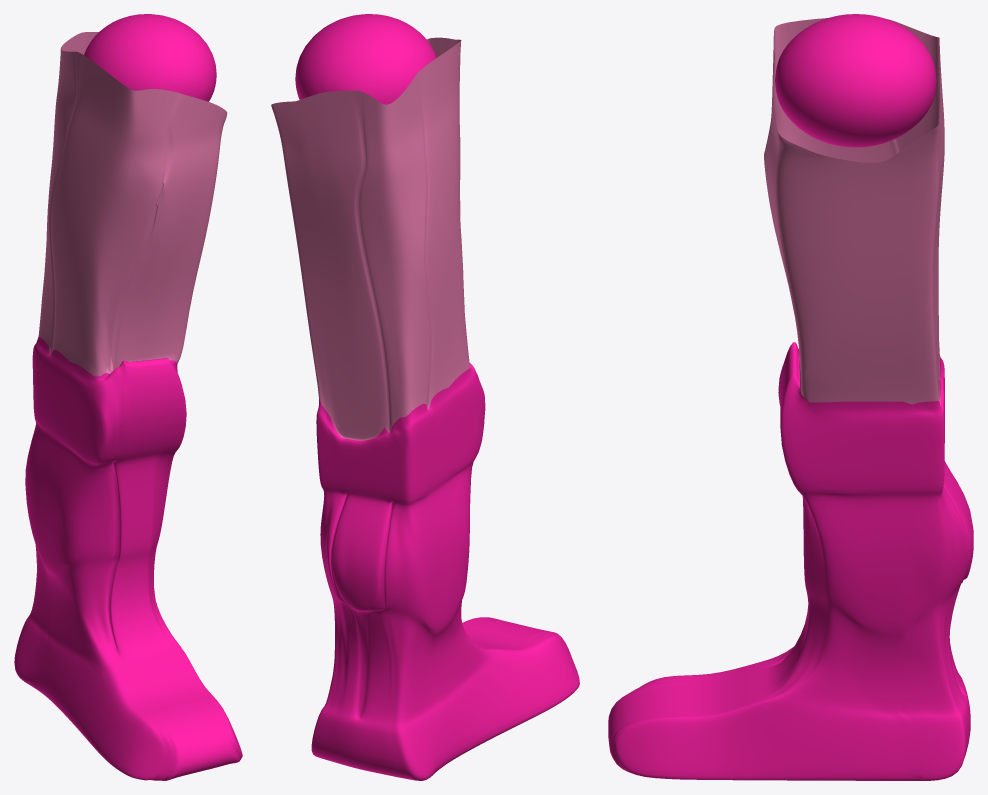
File: leg_left.fbx
3 renders of one model, left to right at view 1: azimuth 30°, elevation 25°; view 2: azimuth 150°, elevation 25°; view 3: azimuth 270°, elevation 25°, orthographic. The views are drawn at different scales.
Parts seen in each view (by area): view 1: leg_left; view 2: leg_left; view 3: leg_left.
Part boxes in pixels (left/top/right/bottom): leg_left: left=14, top=14, right=242, bottom=780; leg_left: left=271, top=14, right=579, bottom=780; leg_left: left=608, top=14, right=973, bottom=780.
Size of the model in its own units: 0.2539 by 0.9554 by 0.4187.
